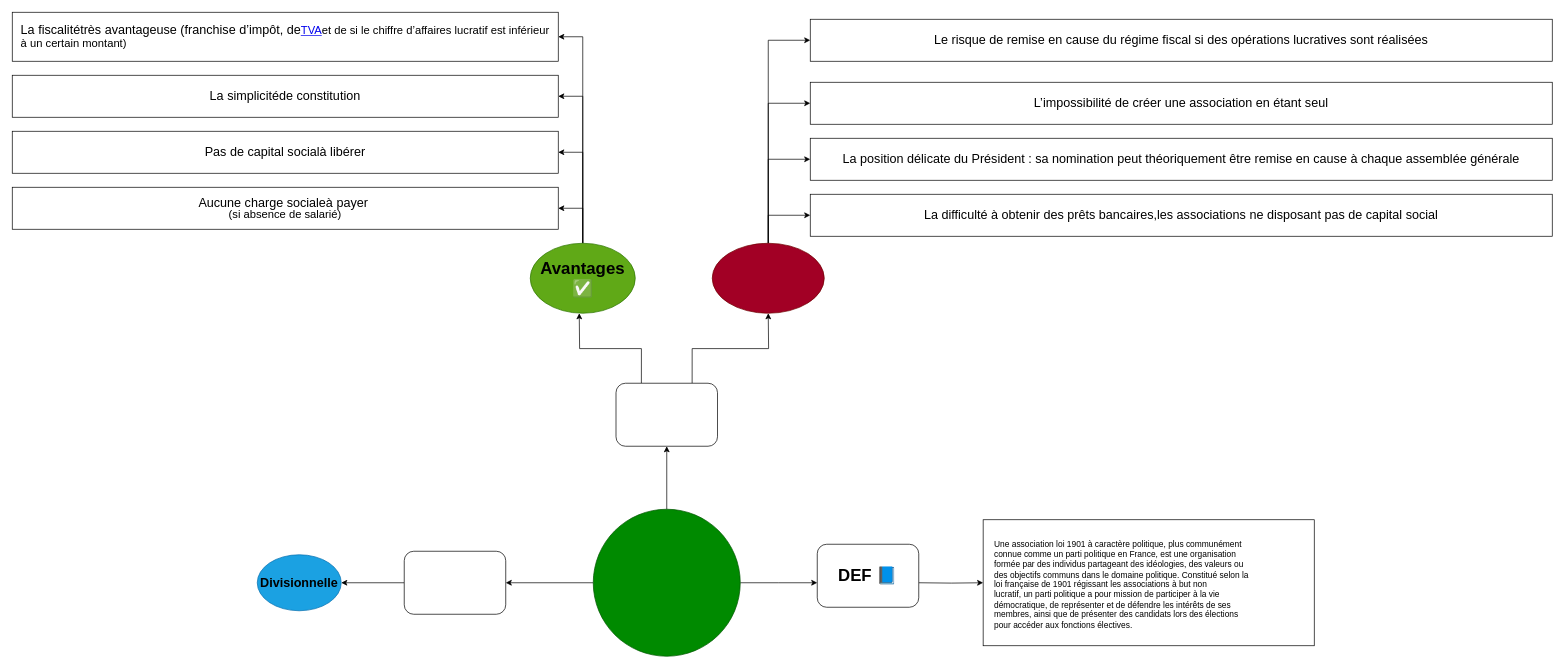
Some shapes in this 1565 by 669 pixel diagram are drawn without their labels. The box of each missing label's shape, as (x1, y1, x2, y2) in pixels:
Association loi 1901: (593, 509, 740, 656)
Les Limites et les Avantages: (615, 383, 718, 446)
Limites ⚠️: (712, 243, 824, 313)
Structure: (404, 551, 506, 614)
